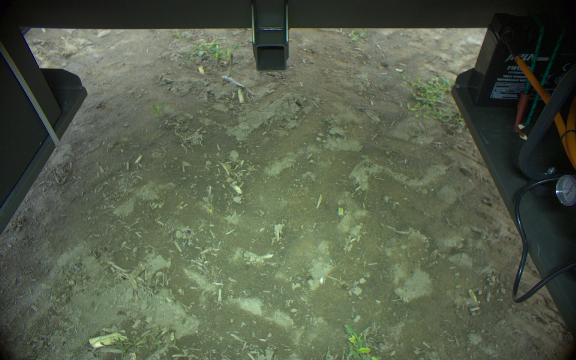aspa: (228, 52, 234, 76)
